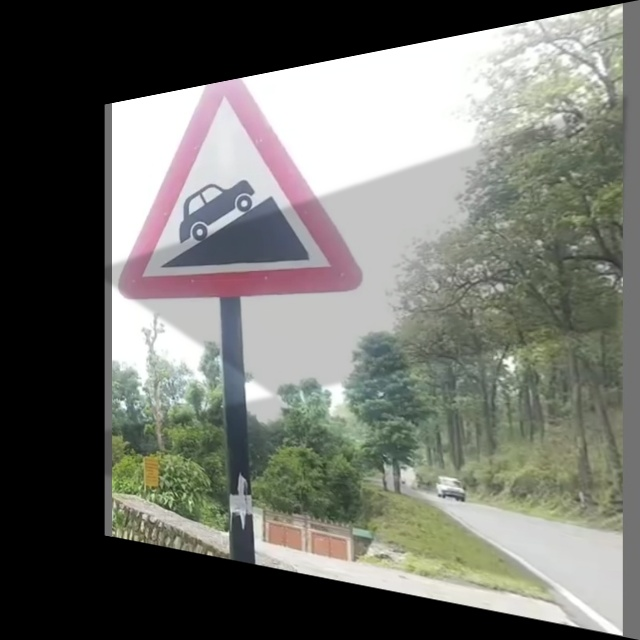Steep_Ascent: (129, 61, 358, 292)
